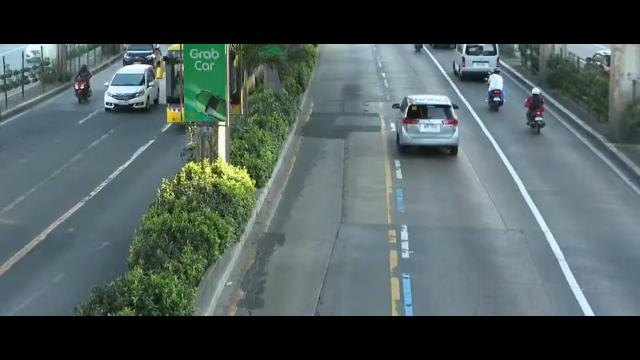bus: (157, 44, 189, 131)
car: (393, 90, 457, 154), (104, 64, 161, 111)
motorcycle: (483, 68, 505, 112), (525, 86, 546, 130), (73, 63, 92, 105)
van: (445, 46, 503, 76)
